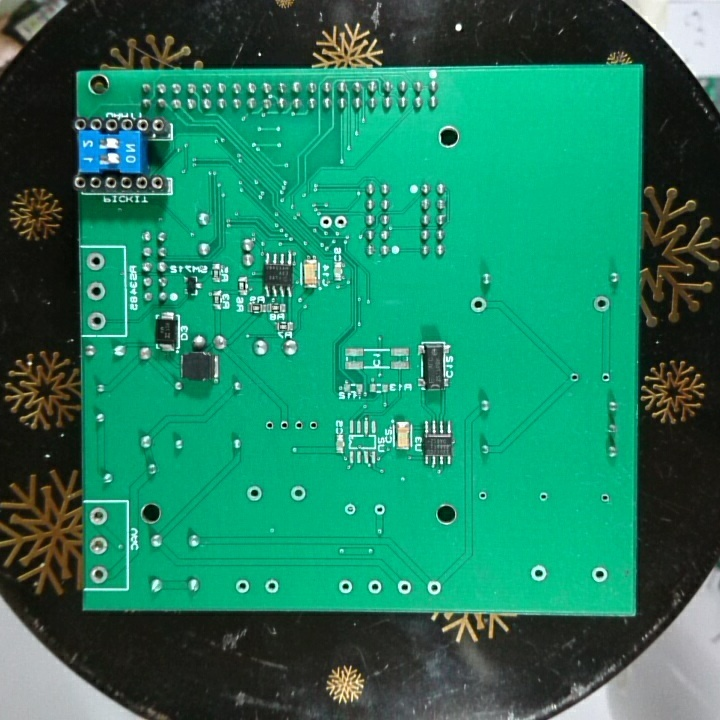F: (87, 563, 111, 586), (85, 279, 107, 304), (591, 292, 614, 315), (527, 561, 550, 584), (588, 563, 611, 586), (88, 534, 110, 558), (85, 250, 107, 274), (244, 482, 265, 506), (85, 311, 108, 332), (88, 505, 109, 527), (288, 483, 309, 505), (468, 295, 489, 315), (394, 577, 413, 598), (424, 578, 443, 598), (340, 501, 359, 520), (262, 578, 282, 596), (365, 577, 382, 598), (335, 577, 354, 595), (332, 212, 349, 232), (233, 577, 251, 595), (596, 489, 613, 508), (317, 212, 333, 232), (291, 415, 306, 435), (371, 500, 387, 518), (305, 415, 320, 433), (277, 416, 291, 435), (262, 418, 277, 434), (475, 488, 488, 506), (599, 369, 613, 385), (567, 369, 581, 385), (537, 489, 551, 504)
